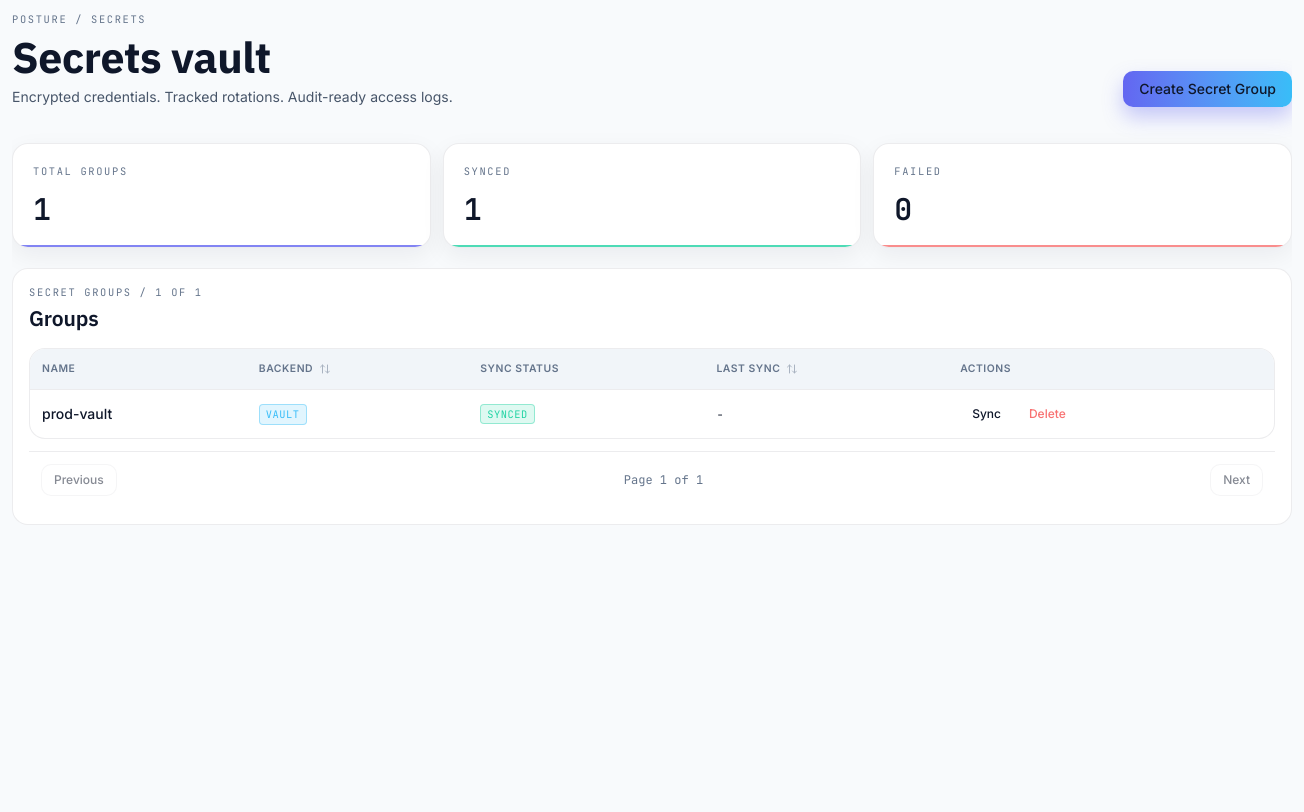
Secrets › surfaces failed sync requests after the toast disappears
What coordinates should you click on to do the following:
click the button with aria-label "sync secret group prod-vault"
I would click on:
 (986, 414)
Its box is [960,398,1013,430].
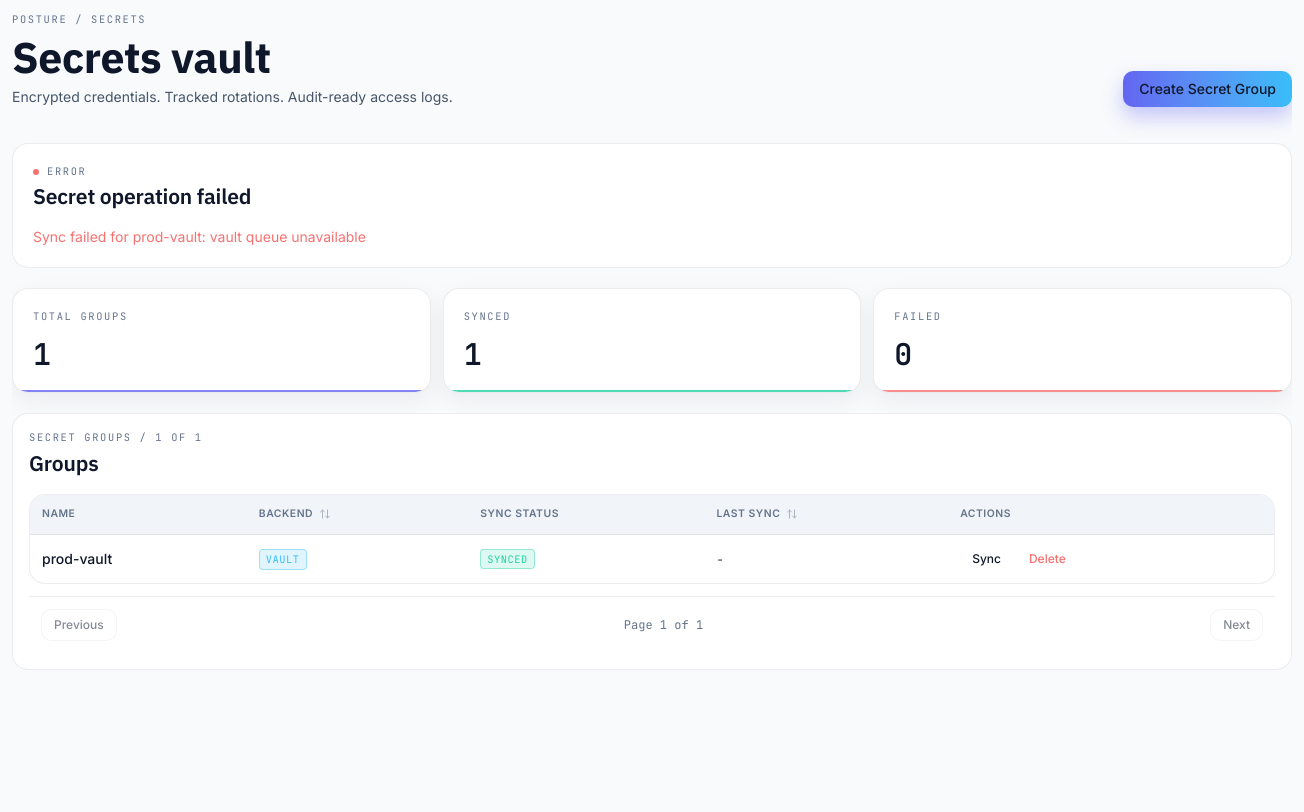
Expected: the message reads "Sync failed for prod-vault: vault queue unavailable", [33,228,366,245]
